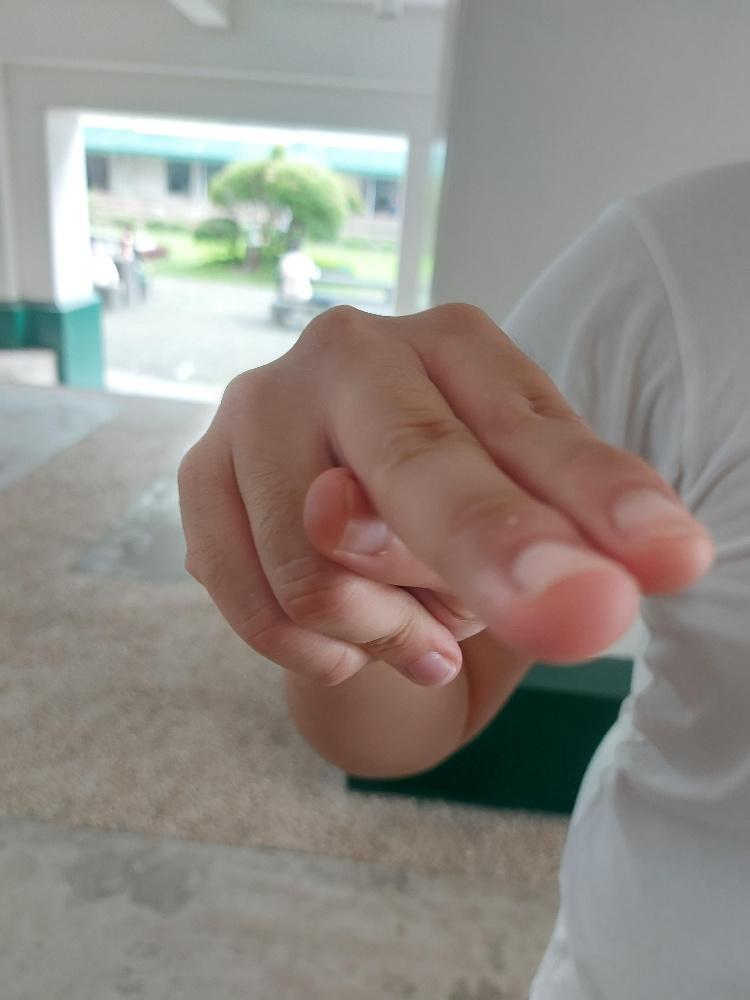n: (172, 299, 715, 691)
